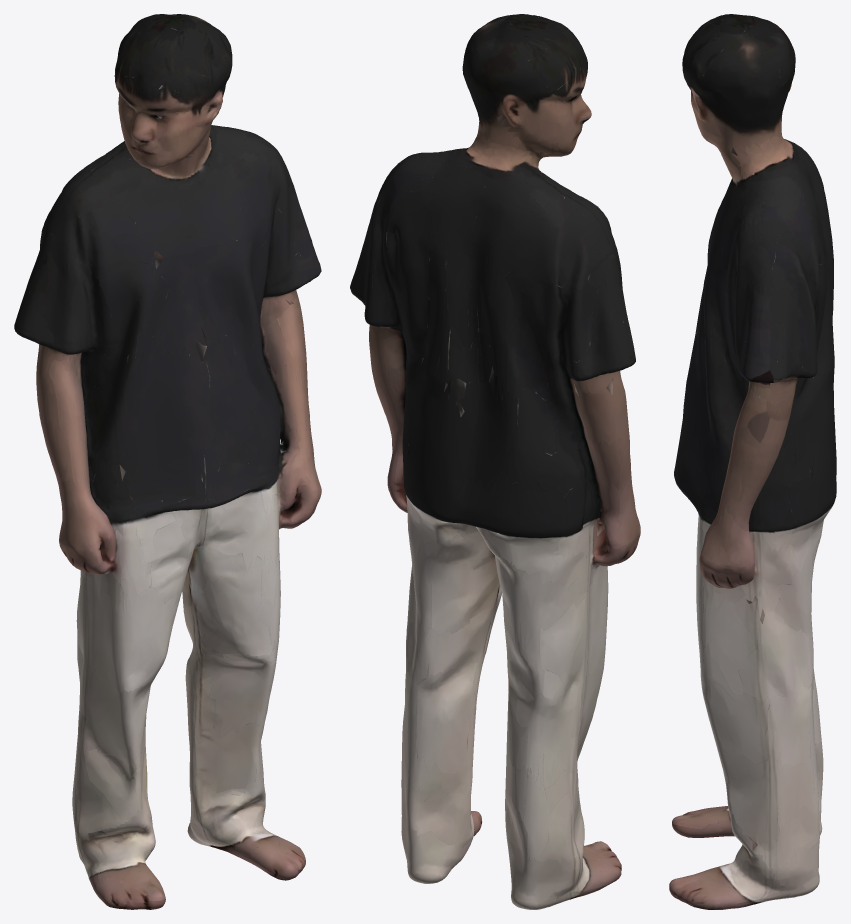
3 views of the same model, side by side, from view 1: azimuth 30°, elevation 25°; view 2: azimuth 150°, elevation 25°; view 3: azimuth 270°, elevation 25° (orthographic). The views are drawn at different scales.
Parts seen in each view (by area): view 1: tmpyz51ij0dobj; view 2: tmpyz51ij0dobj; view 3: tmpyz51ij0dobj.
Part boxes in pixels (x1,y1,x2,y2): tmpyz51ij0dobj: (14,14,321,909); tmpyz51ij0dobj: (350,14,640,909); tmpyz51ij0dobj: (669,14,836,909).
Bounding box in the file's own units: 0.3532 × 1 × 0.1813.
Materials: 1 (1 with a texture image).
